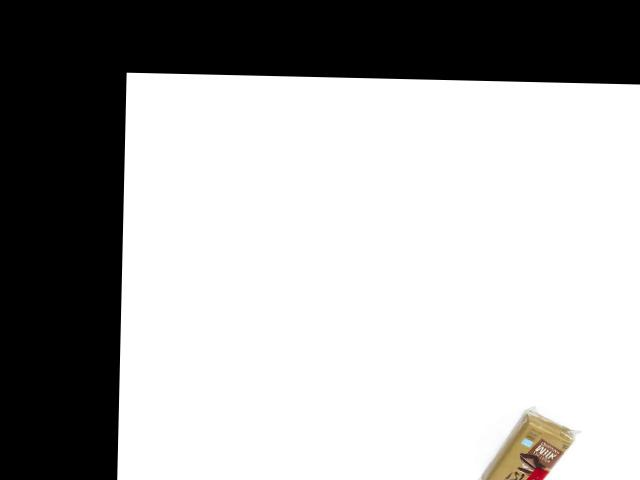chocolate: (478, 409, 586, 480)
